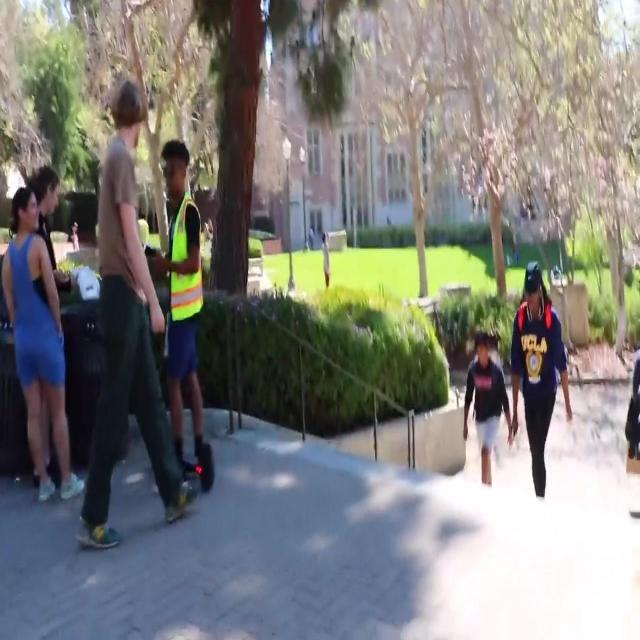Vest: (168, 193, 206, 320)
